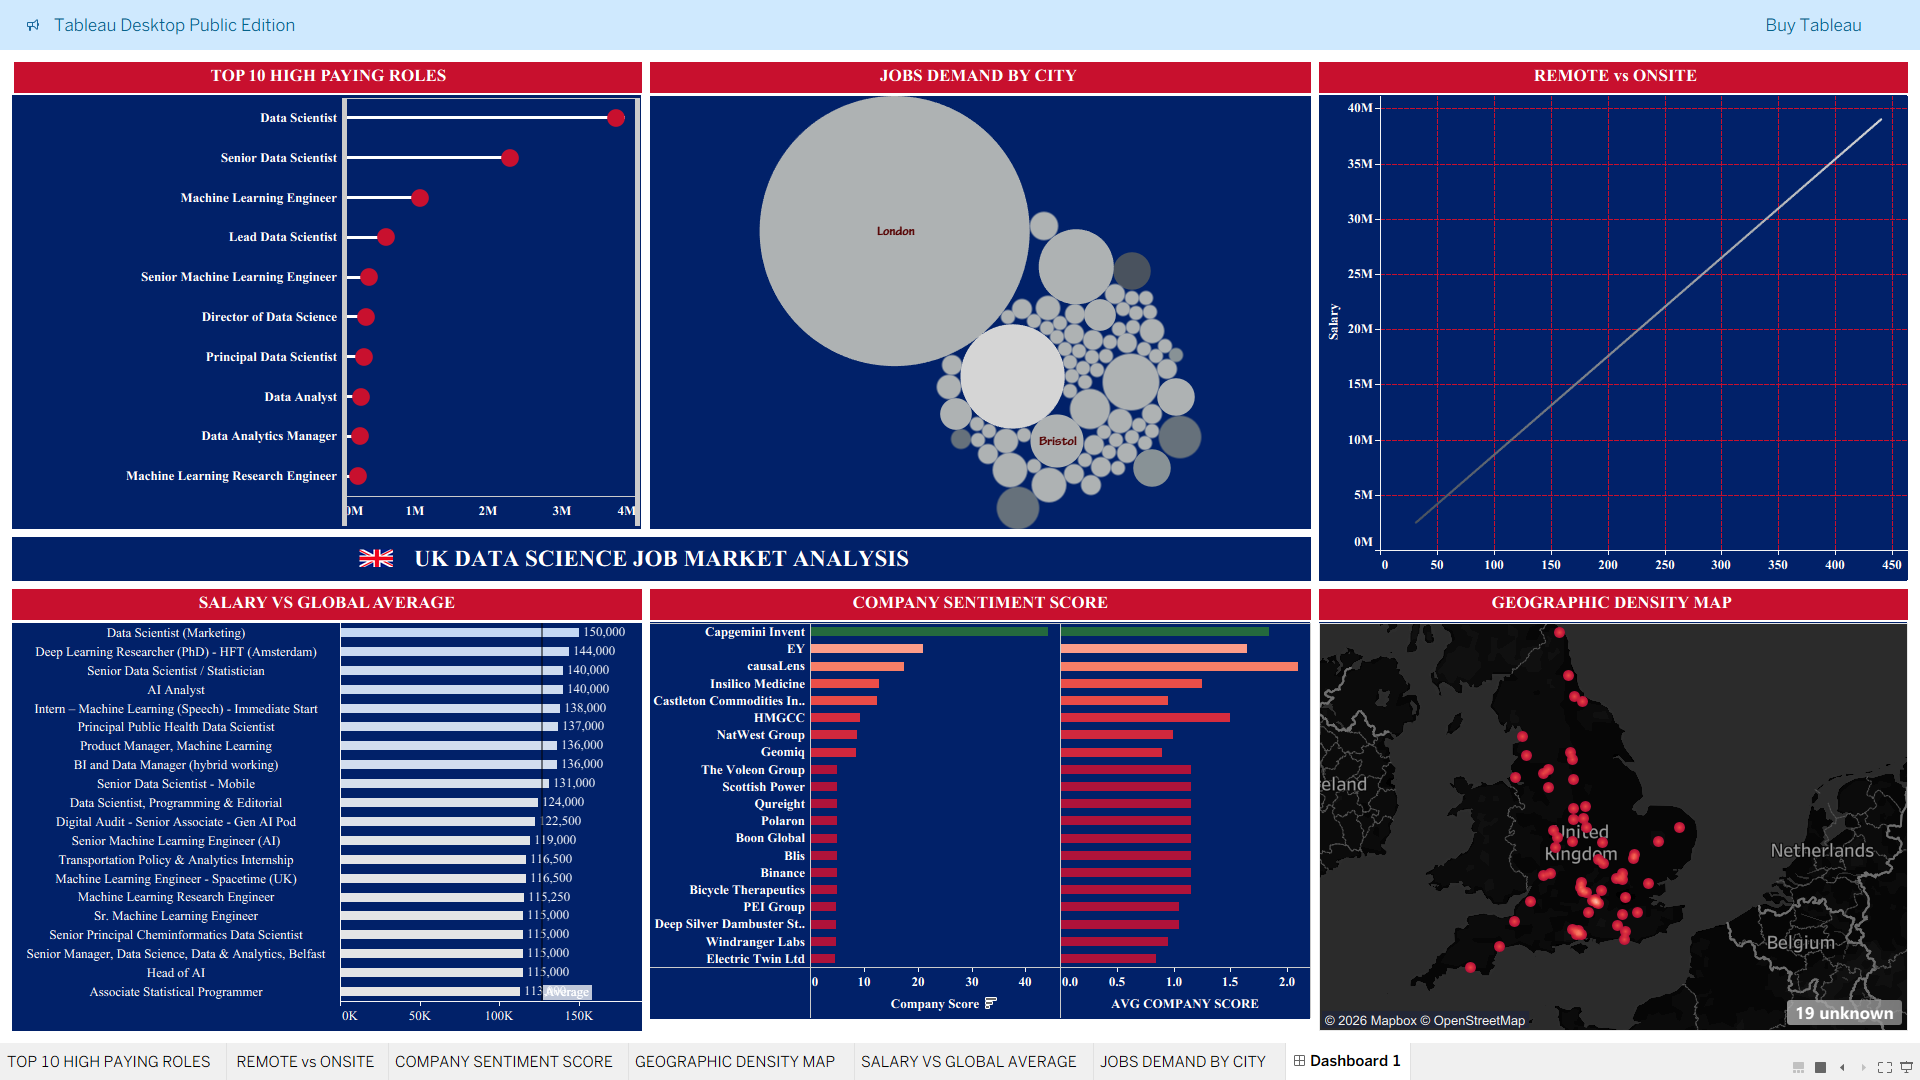

What the dashboard file says about the page in this screenshot:
{"tool":"tableau","page":{"name":"Dashboard 1","canvas":[1000,1000],"units":"permille","ordinal":0},"visuals":[{"type":"worksheet","title":"TOP 10 HIGH PAYING ROLES","mark":"Bar","rows":["Job Title"],"cols":["Salary","Salary"],"box":[4.4,10,332.2,476.2]},{"type":"worksheet","title":"JOBS DEMAND BY CITY ","mark":"Circle","box":[336.6,10,348.4,476.2]},{"type":"worksheet","title":" REMOTE vs ONSITE","mark":"Line","rows":["Salary"],"cols":["Job Title"],"box":[684.9,10,310.7,528.7]},{"type":"text","box":[4.4,486.2,680.5,52.5]},{"type":"image","param":"Image/illustration-uk-flag_53876-18166.jpg","box":[186.8,498.8,18.1,26.2]},{"type":"worksheet","title":"SALARY VS GLOBAL AVERAGE","mark":"Automatic","rows":["Job Title"],"cols":["Calculation_1522018589212673"],"box":[4.4,538.7,332.2,451.3]},{"type":"worksheet","title":"COMPANY SENTIMENT SCORE","mark":"Automatic","rows":["Company"],"cols":["Company Score","Calculation_1522018581000192"],"box":[336.6,538.7,348.4,451.3]},{"type":"worksheet","title":"GEOGRAPHIC DENSITY MAP ","mark":"Heatmap","box":[684.9,538.7,310.7,451.3]}]}

Visuals, with their boxes on the dashboard's canvas, which has no fixed pixel size, in thousandths of its width and height (x1, y1, x2, y2). These are canvas units, not pixel positions in the 1920x1080 screenshot, which may show the page scaled, cropped or inside an application window:
"TOP 10 HIGH PAYING ROLES" worksheet (Bar marks): 4 10 337 486
"JOBS DEMAND BY CITY " worksheet (Circle marks): 337 10 685 486
" REMOTE vs ONSITE" worksheet (Line marks): 685 10 996 539
text: 4 486 685 539
image: 187 499 205 525
"SALARY VS GLOBAL AVERAGE" worksheet: 4 539 337 990
"COMPANY SENTIMENT SCORE" worksheet: 337 539 685 990
"GEOGRAPHIC DENSITY MAP " worksheet (Heatmap marks): 685 539 996 990
